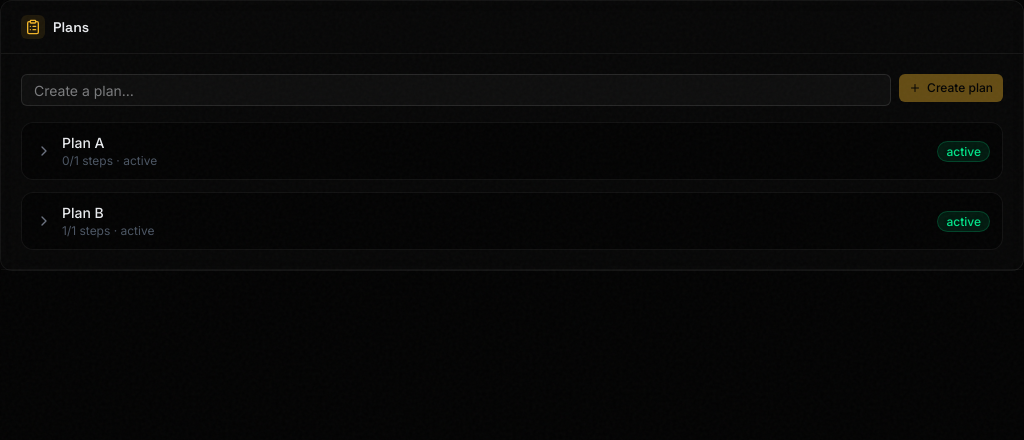
it: ProjectPlansPanel — VAL-PLAN-014, VAL-PLAN-012, VAL-PLAN-015 › renders all plans with expandable step lists
Expected: the text "Plan A" is shown, [62,134,104,151]
Expected: the text "Plan B" is shown, [62,204,104,221]
Expand plan A
Step 1. Click the button named "Expand Plan A" → click(44, 151), box [34,141,54,161]
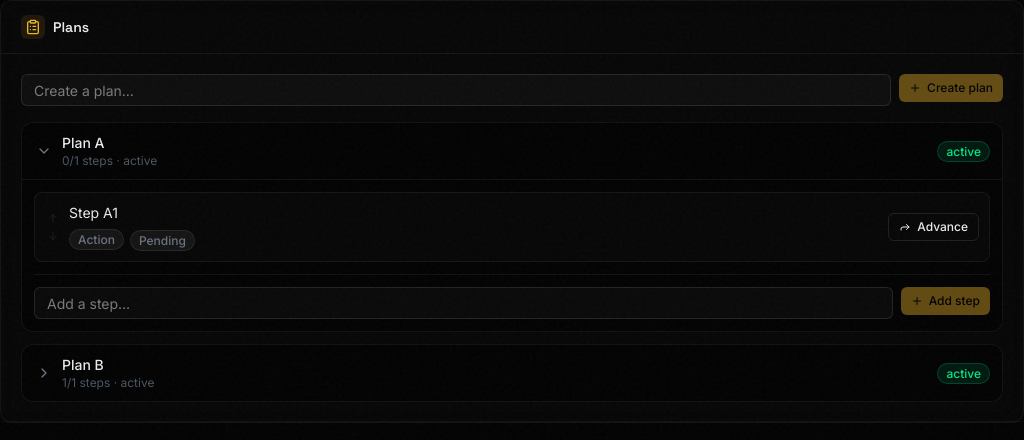
Result: the text "Step A1" is shown at [69,204,118,221]
